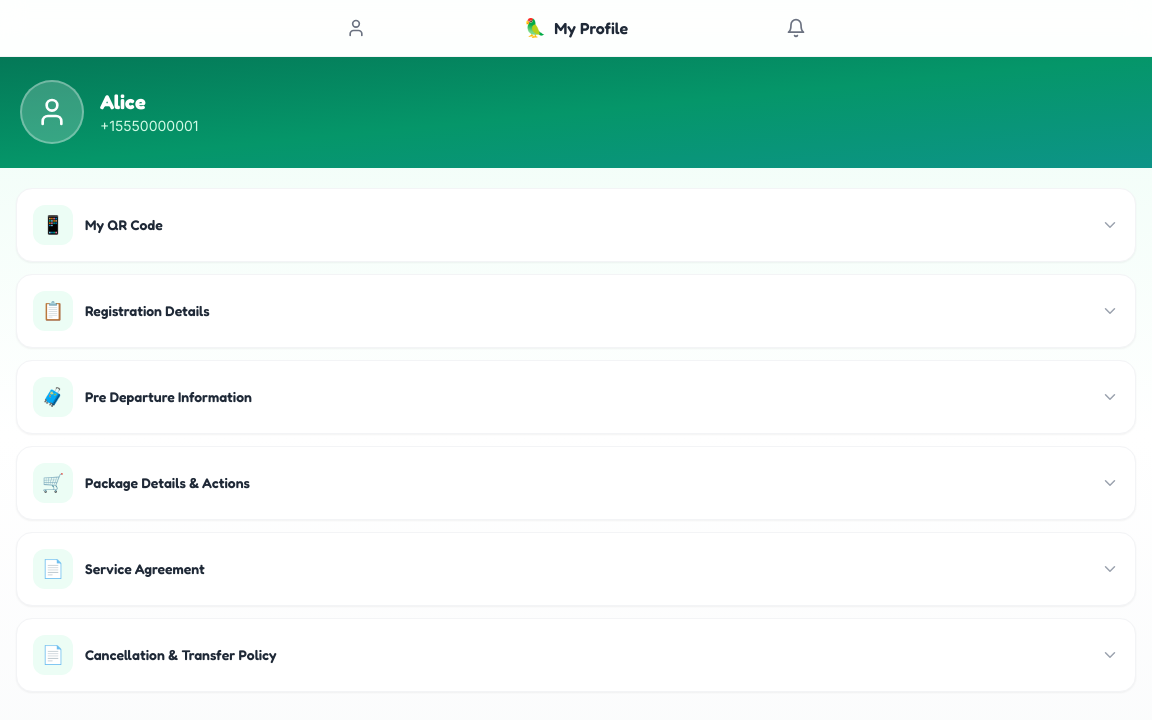
it: ProfileScreen › loads the active trip cancellation policy when its profile section opens
Click the button "📄 Cancellation & Transfer Policy": [53, 655] box left=17, top=619, right=1135, bottom=691
(page scrolled)
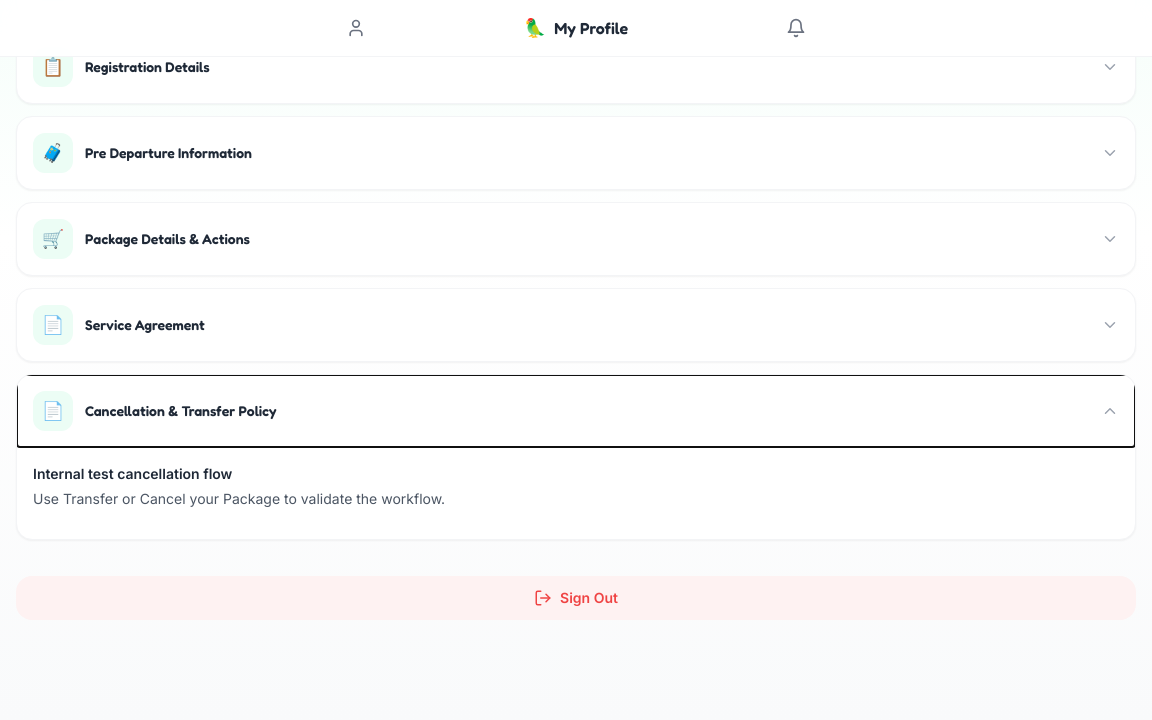
expect the text "Internal test cancellation flow" is shown: met, box left=33, top=465, right=232, bottom=482
expect the text "Transfer or Cancel your Package" is shown: met, box left=33, top=490, right=445, bottom=507
